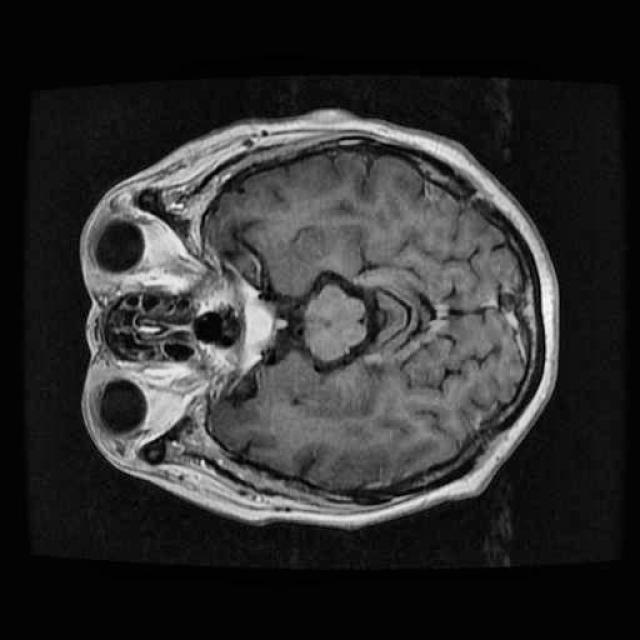Tumor: (223, 282, 288, 365)
